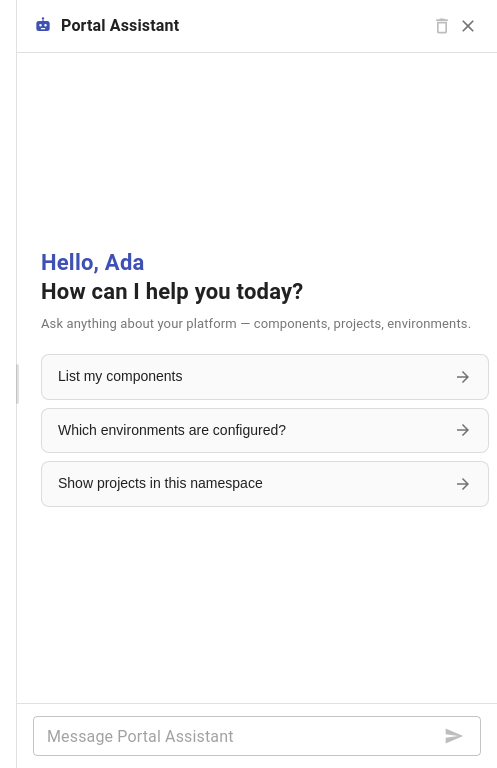
Test: AssistantChatDrawer fix-prompt banner › surfaces the tool_call activeForm as the working indicator
The width and height of the screenshot is (497, 768).
In the text box with placeholder "Message Portal Assistant": (240, 736) [47, 726, 433, 746], type "look it up"
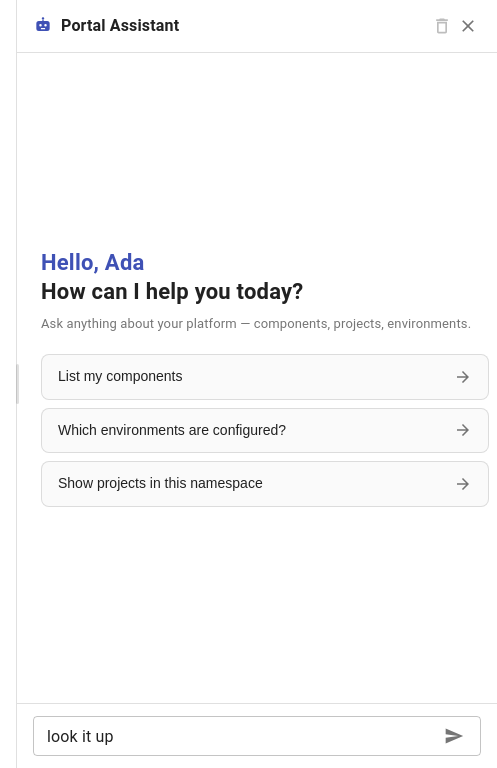
Press Enter in the text box with placeholder "Message Portal Assistant", box [47, 726, 433, 746]
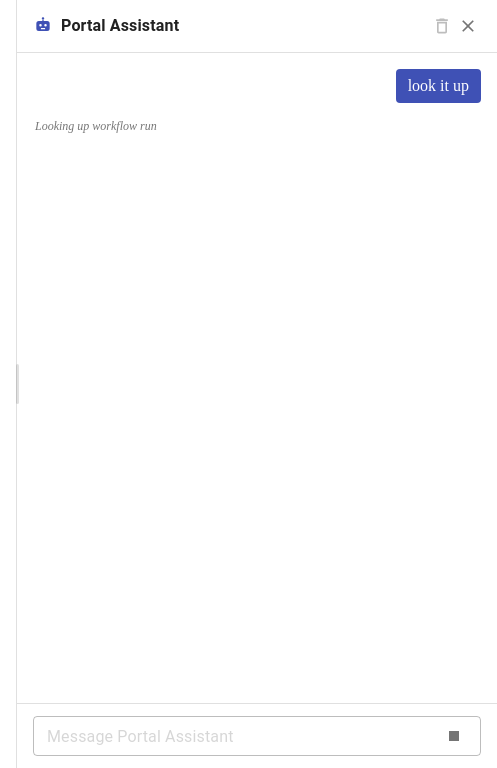
Expected: the text "Looking up workflow run" is shown, [35, 119, 157, 134]
